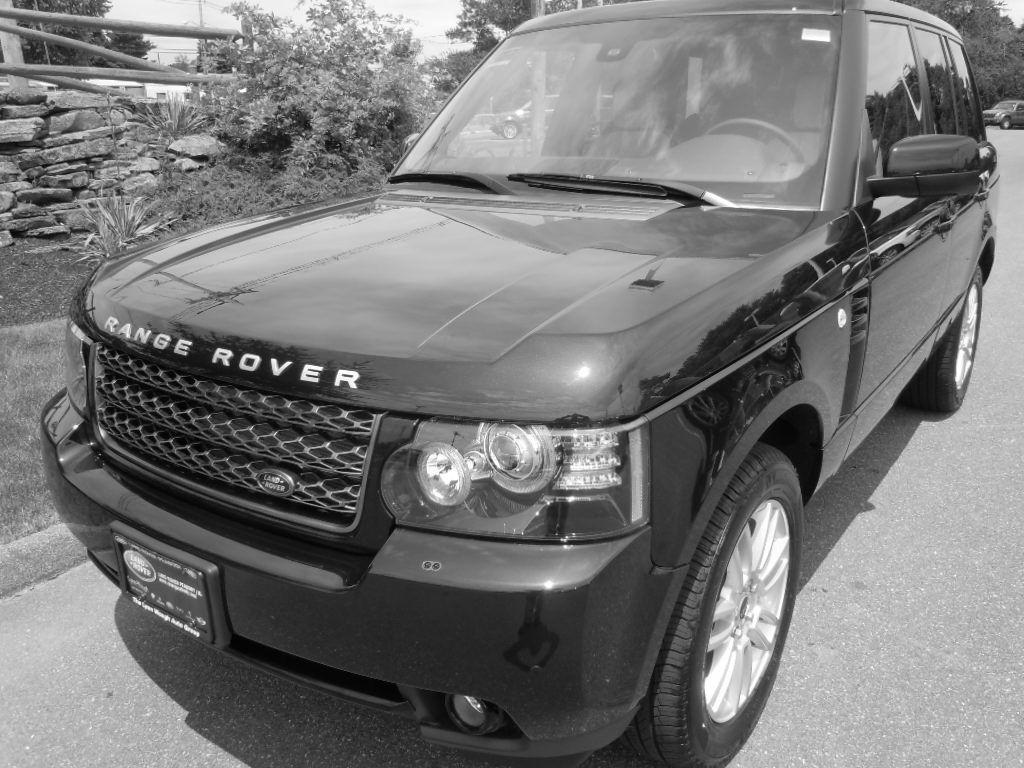car: (36, 1, 1005, 767)
